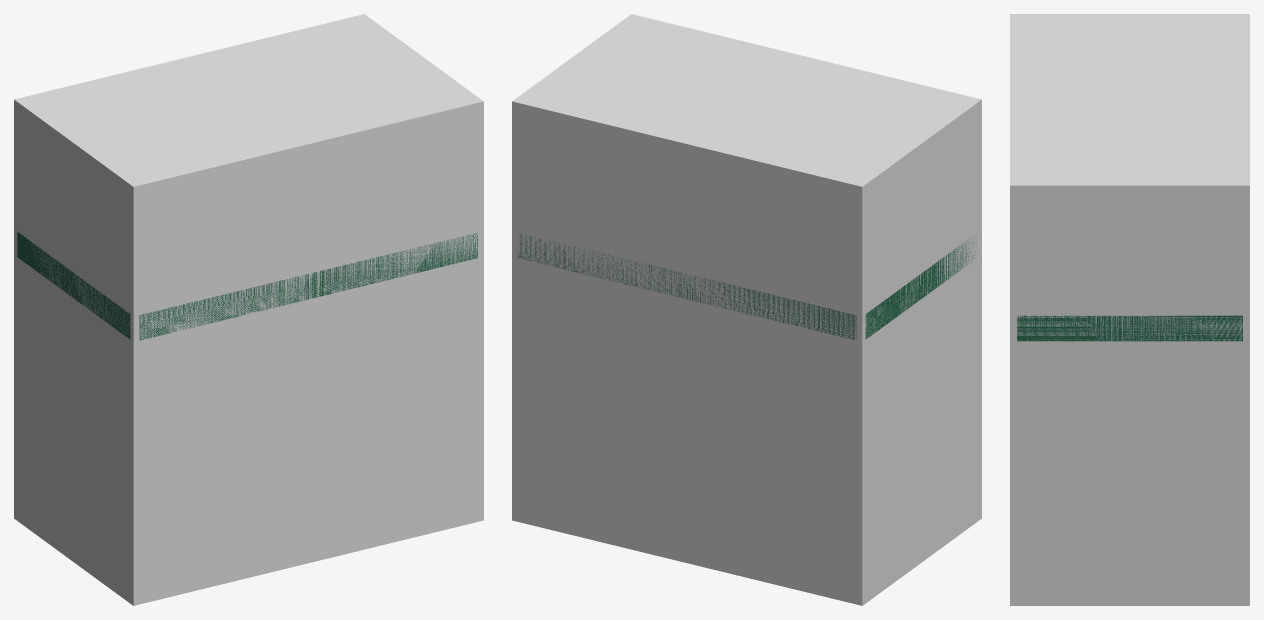
File: towel-station_boutique.glb
3 renders of one model, left to right at view 1: azimuth 30°, elevation 25°; view 2: azimuth 150°, elevation 25°; view 3: azimuth 270°, elevation 25°, orthographic.
Visible parts, largest first — view 1: COL_towel-station, MESH_Countertop; view 2: COL_towel-station, MESH_Countertop; view 3: COL_towel-station, MESH_Countertop.
Part boxes in pixels (bbox=[...]): COL_towel-station: bbox=[14, 14, 483, 605]; MESH_Countertop: bbox=[17, 232, 477, 340]; COL_towel-station: bbox=[512, 14, 981, 605]; MESH_Countertop: bbox=[518, 233, 976, 339]; COL_towel-station: bbox=[1010, 14, 1249, 605]; MESH_Countertop: bbox=[1017, 315, 1242, 341].
Size of the model in its own units: 1.05 by 1.2 by 0.62.
